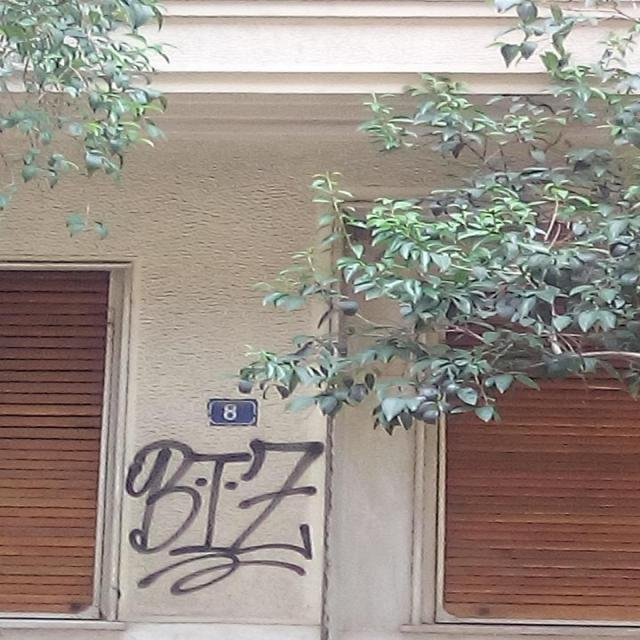nonspitting: (124, 440, 324, 596)
